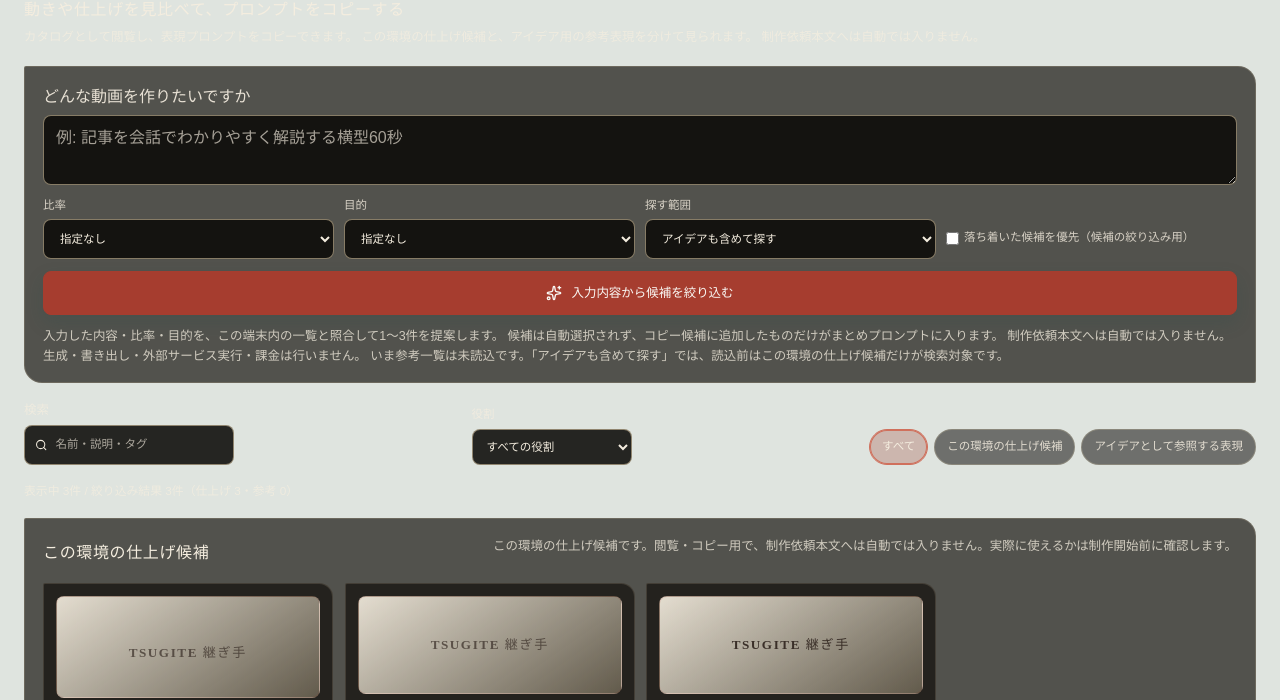
Test: ExpressionShelf stale recommendation hygiene › clears recommendation as soon as catalog load starts (focus stays on action; 1 fetch; no restore on fail)
This screenshot has width=1280, height=700.
Type "記事を会話で解説する横型" into the text box labelled "どんな動画を作りたいですか" at [640, 150], box [43, 115, 1237, 185]
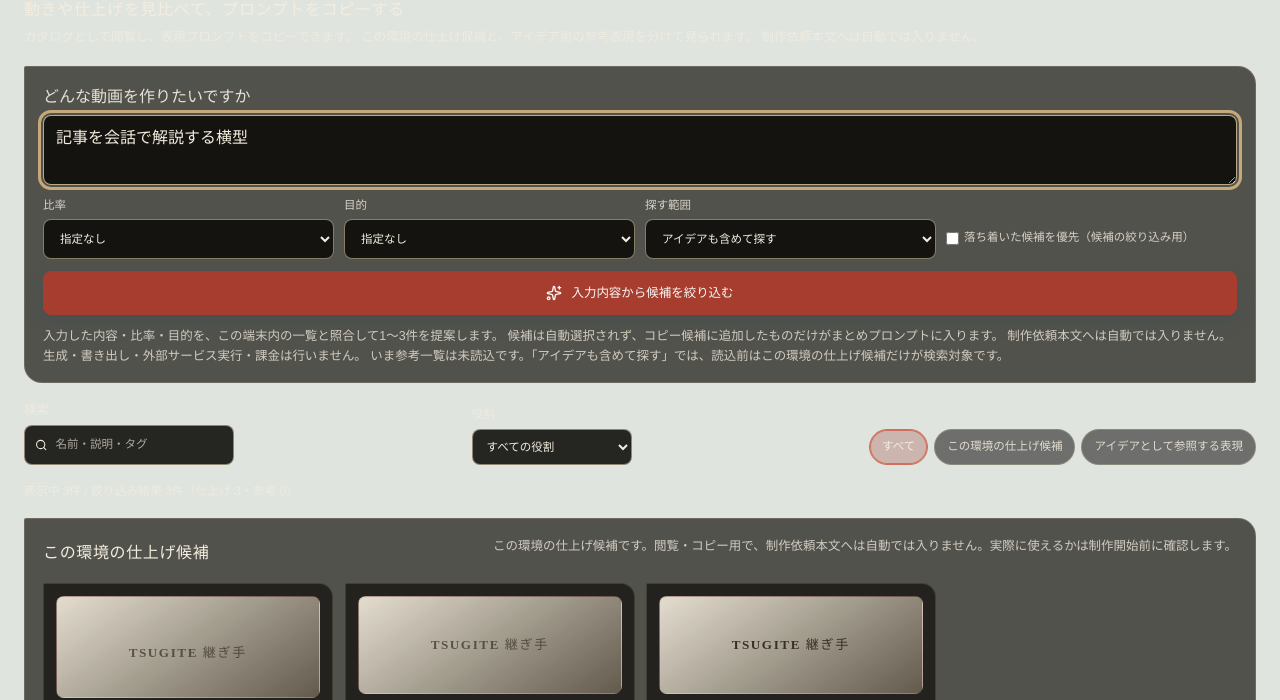
Click the button "入力内容から候補を絞り込む" at [640, 293], box [43, 271, 1237, 315]
(page scrolled)
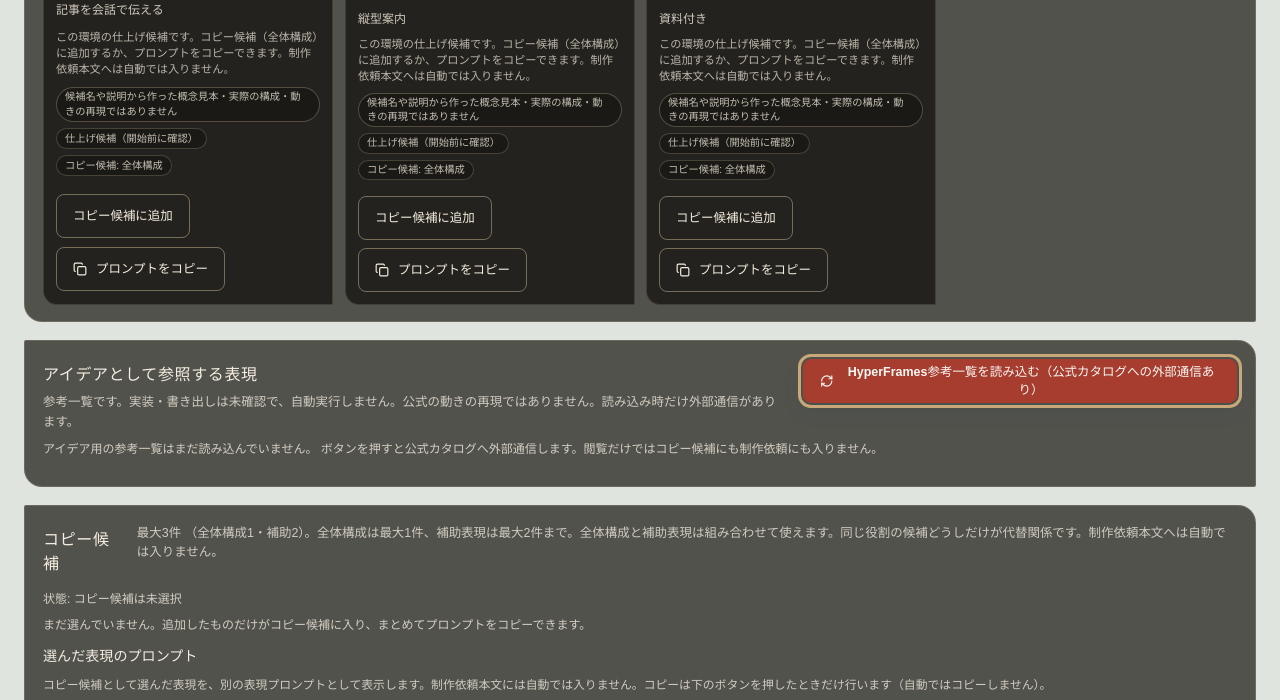
Click the button "HyperFrames参考一覧を読み込む（公式カタログへの外部通信あり）" at [1020, 381], box [802, 359, 1237, 403]
(page scrolled)
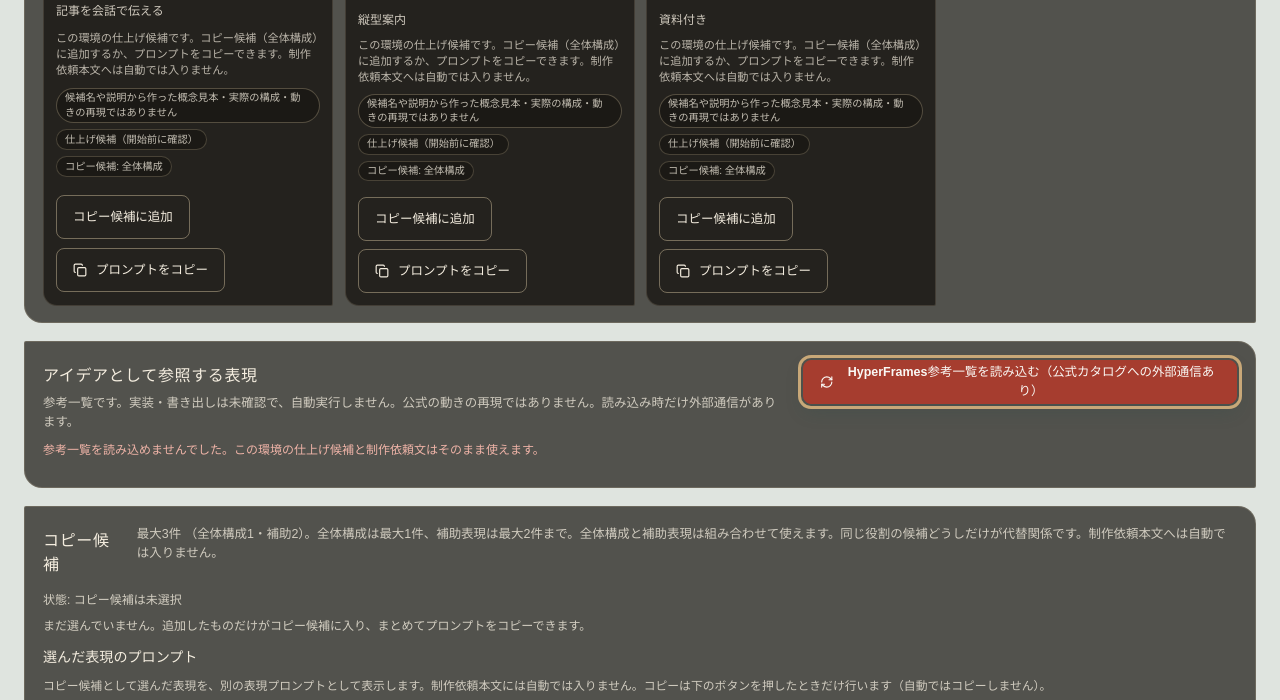
Expected: the message "参考一覧を読み込めませんでした。この環境の仕上げ候補と制作依頼文はそのまま使えます。" is shown, [43, 442, 545, 456]
